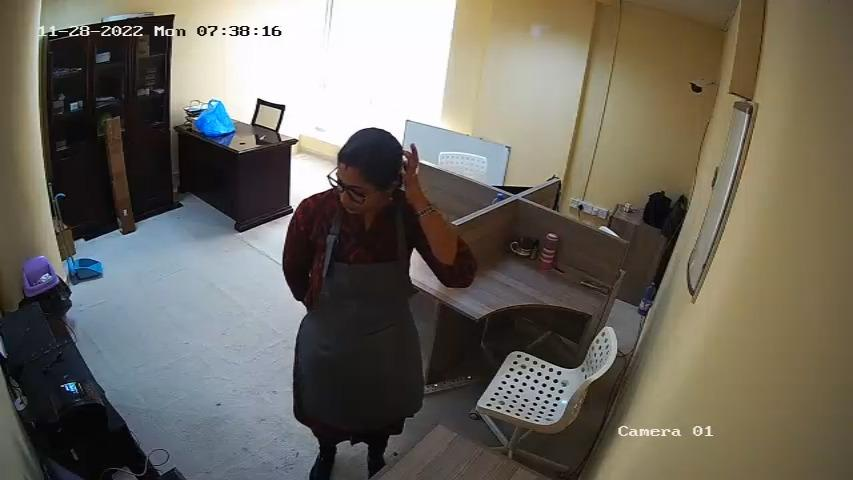apron: (308, 217, 416, 416)
